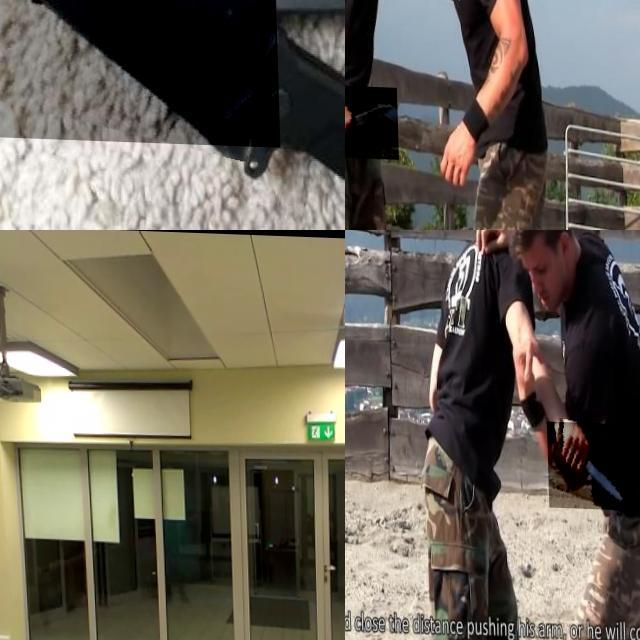-: (0, 0, 277, 145), (545, 418, 635, 506), (345, 82, 396, 156)
gun-knife-thesis - v11 Yolov5 augmented: (0, 559, 22, 602)
